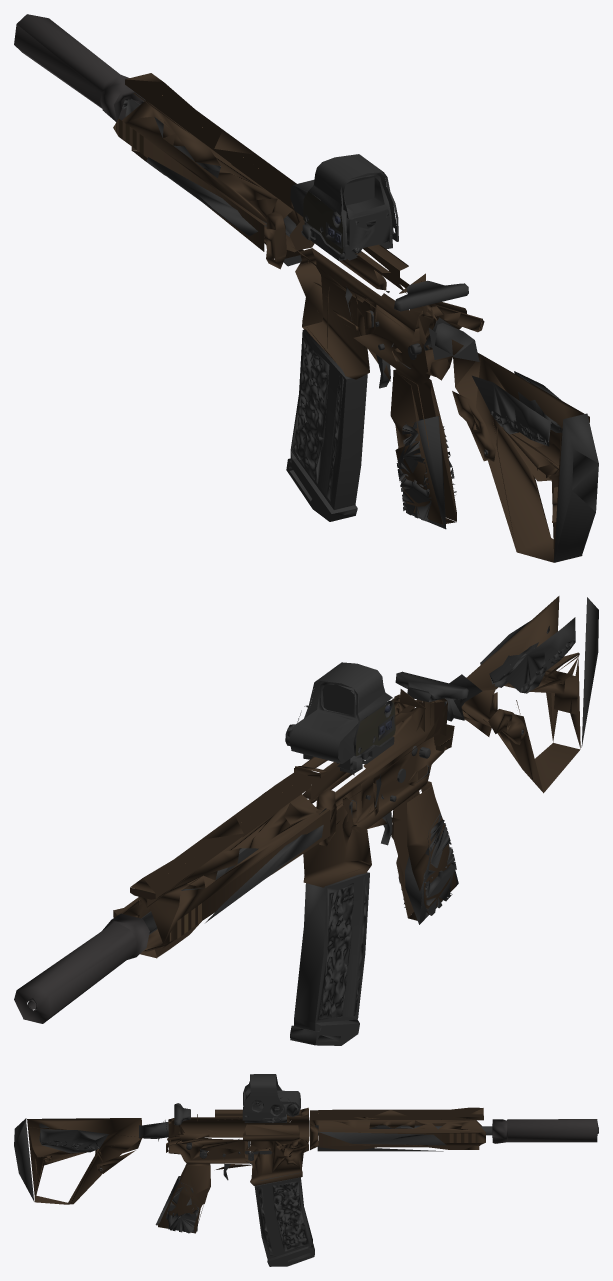
File: m4_far.glb
The picture shows the model from 3 angles, top to bottom: view 1: azimuth 30°, elevation 25°; view 2: azimuth 150°, elevation 25°; view 3: azimuth 270°, elevation 25°; orthographic projection. The views are drawn at different scales.
Visible parts, largest first — view 1: body_mk18__1__1__1__2__2; view 2: body_mk18__1__1__1__2__2; view 3: body_mk18__1__1__1__2__2.
Boxes of the visible parts, bbox=[...] form: body_mk18__1__1__1__2__2: bbox=[14, 14, 598, 562]; body_mk18__1__1__1__2__2: bbox=[14, 596, 598, 1045]; body_mk18__1__1__1__2__2: bbox=[14, 1074, 598, 1266].
Size of the model in its own units: 0.0823 by 0.3327 by 0.9447.
